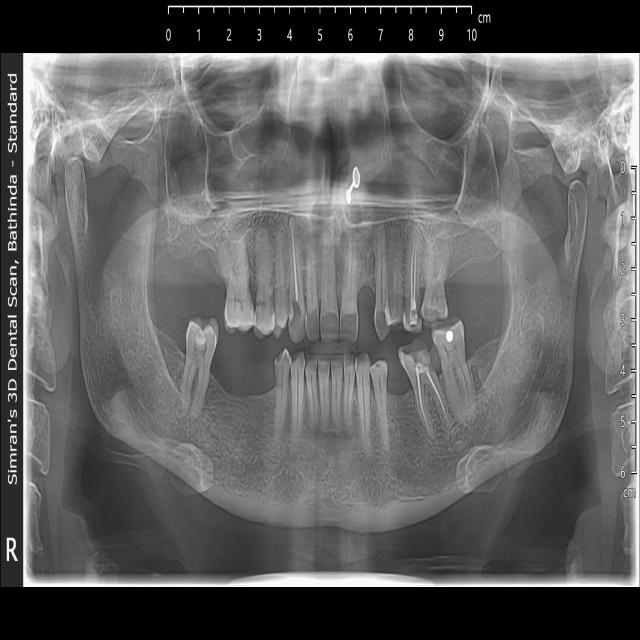Caries: (400, 336, 435, 366), (254, 293, 276, 336), (370, 358, 387, 392)
Filling: (185, 316, 219, 362), (445, 328, 456, 344)
Missing teeth: (211, 350, 271, 417), (180, 245, 226, 307), (390, 373, 415, 431), (360, 255, 374, 317)
Root Canal Treatment: (401, 348, 451, 441), (288, 213, 306, 345), (401, 225, 420, 329)
